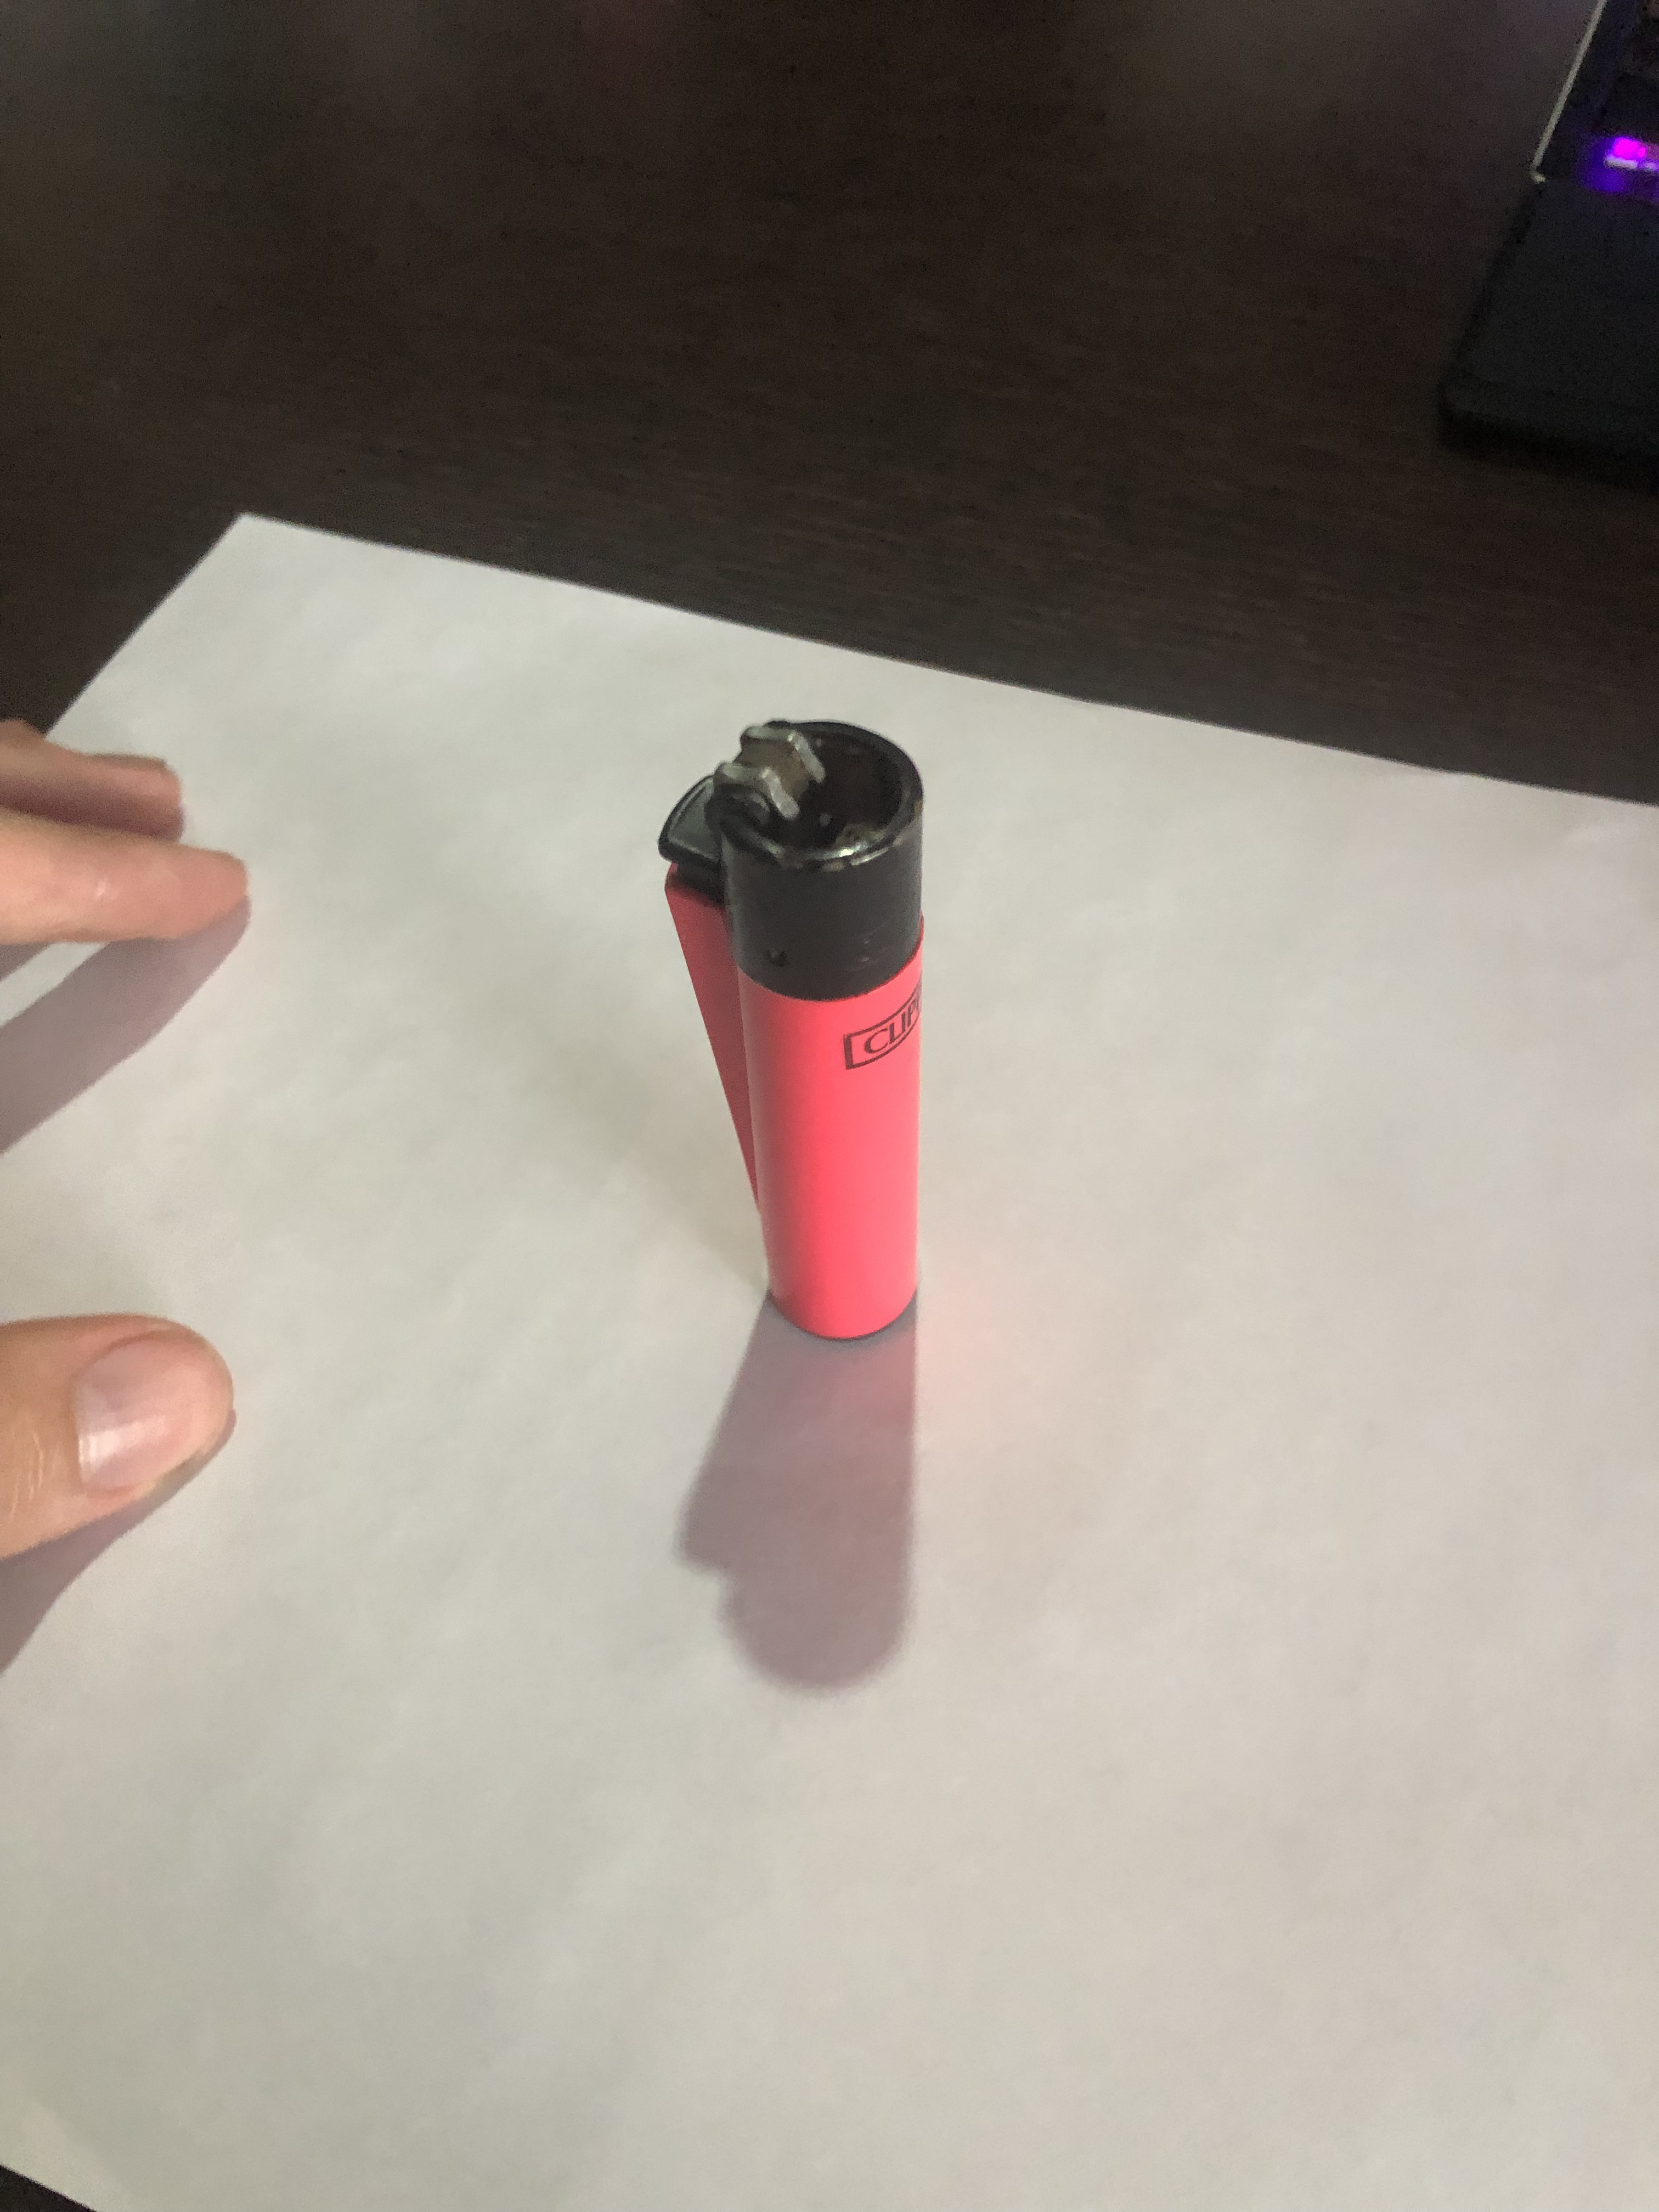Mechero: (620, 704, 979, 1355)
